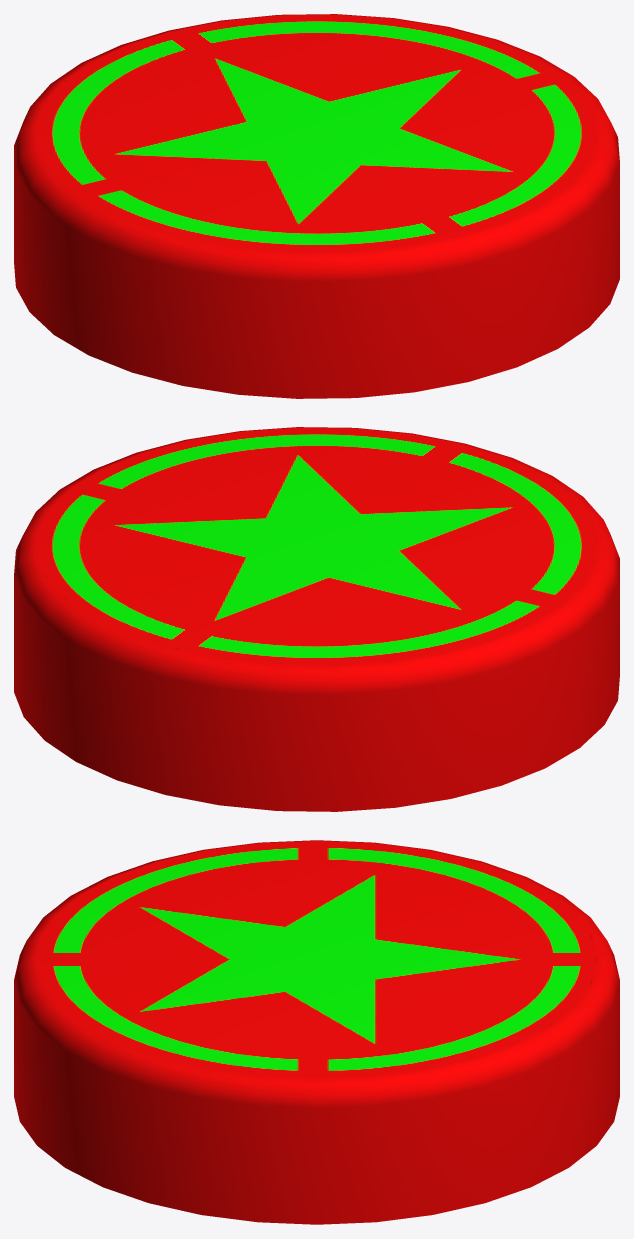
Rendered from SM_Chip.fbx.
3 renders of one model, top to bottom at view 1: azimuth 30°, elevation 25°; view 2: azimuth 150°, elevation 25°; view 3: azimuth 270°, elevation 25°, orthographic.
Visible parts, largest first — view 1: SM_Chip; view 2: SM_Chip; view 3: SM_Chip.
Part boxes in pixels (x1=…): SM_Chip: x1=14, y1=14, x2=619, y2=398; SM_Chip: x1=14, y1=427, x2=619, y2=811; SM_Chip: x1=14, y1=840, x2=619, y2=1224.
Bounding box in the file's own units: 200 × 50 × 200.
Materials: 1 (1 with a texture image).
